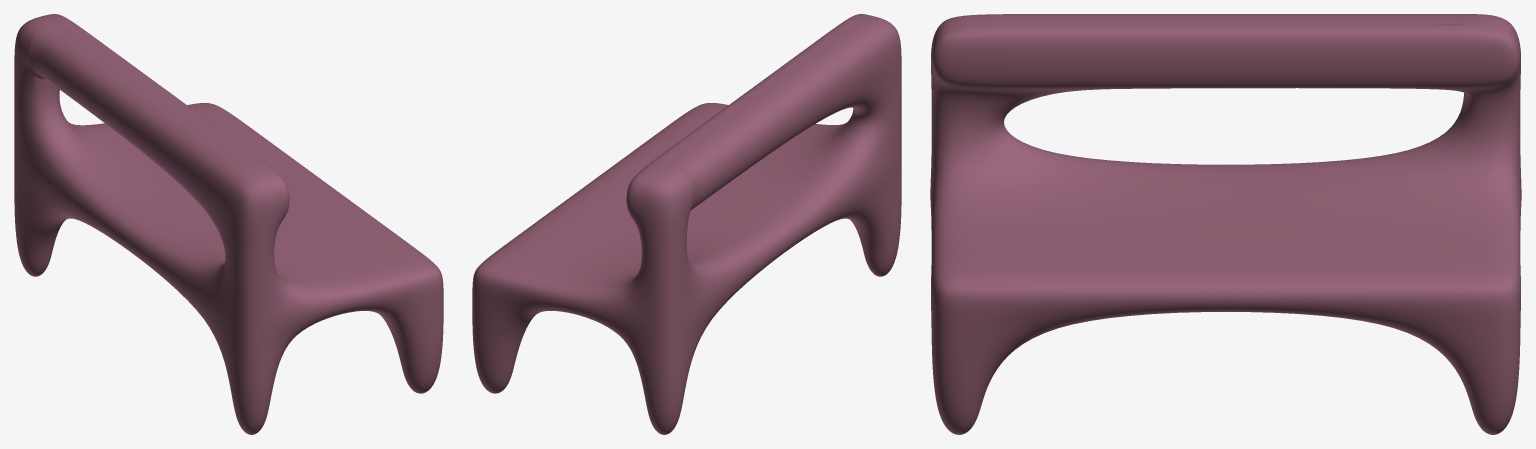
File: bench.fbx
3 renders of one model, left to right at view 1: azimuth 30°, elevation 25°; view 2: azimuth 150°, elevation 25°; view 3: azimuth 270°, elevation 25°, orthographic. The views are drawn at different scales.
Visible parts, largest first — view 1: Cube; view 2: Cube; view 3: Cube.
Boxes of the visible parts, <box> form: Cube: <box>14,14,443,434</box>; Cube: <box>472,14,901,434</box>; Cube: <box>930,14,1521,434</box>.
Size of the model in its own units: 198 by 235 by 396.
